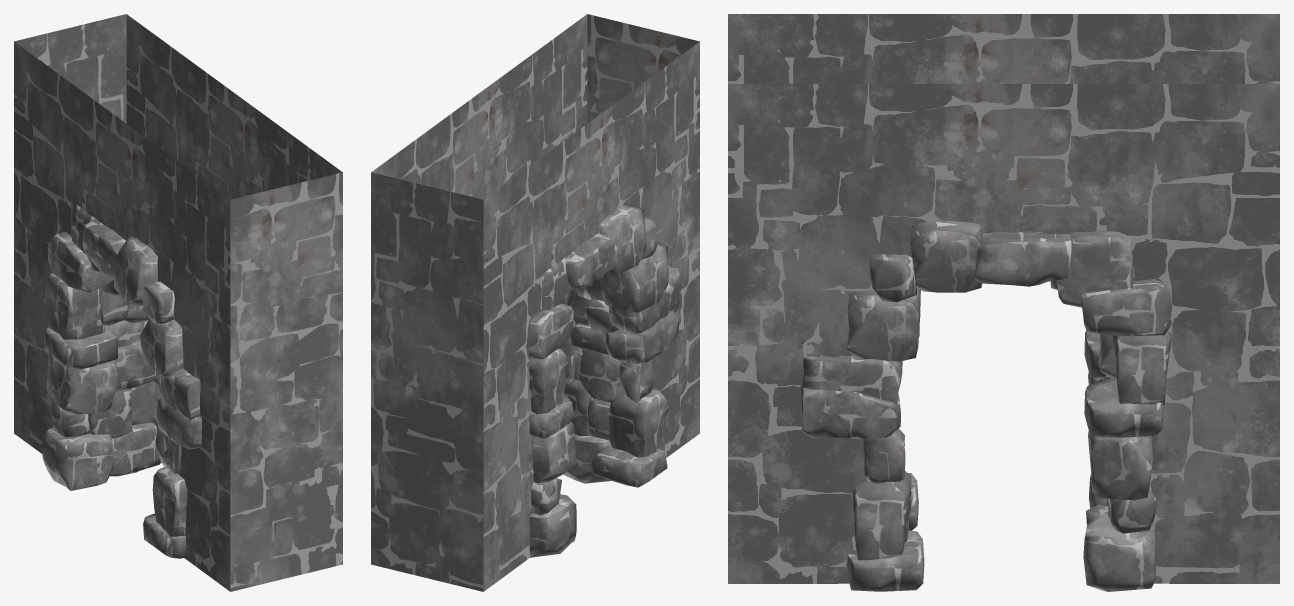
File: Wall_Arch_Small.fbx
3 renders of one model, left to right at view 1: azimuth 30°, elevation 25°; view 2: azimuth 150°, elevation 25°; view 3: azimuth 270°, elevation 25°, orthographic. The views are drawn at different scales.
Visible parts, largest first — view 1: Wall_Arch_Small, Rocks_4; view 2: Wall_Arch_Small, Rocks_4; view 3: Wall_Arch_Small, Rocks_4.
Boxes of the visible parts, <box> form: Wall_Arch_Small: <box>14,14,342,591</box>; Rocks_4: <box>42,203,201,558</box>; Wall_Arch_Small: <box>371,14,699,591</box>; Rocks_4: <box>490,178,681,557</box>; Wall_Arch_Small: <box>728,14,1279,583</box>; Rocks_4: <box>800,220,1171,591</box>.
Bounding box in the file's own units: 2.06 × 5.21 × 5.
